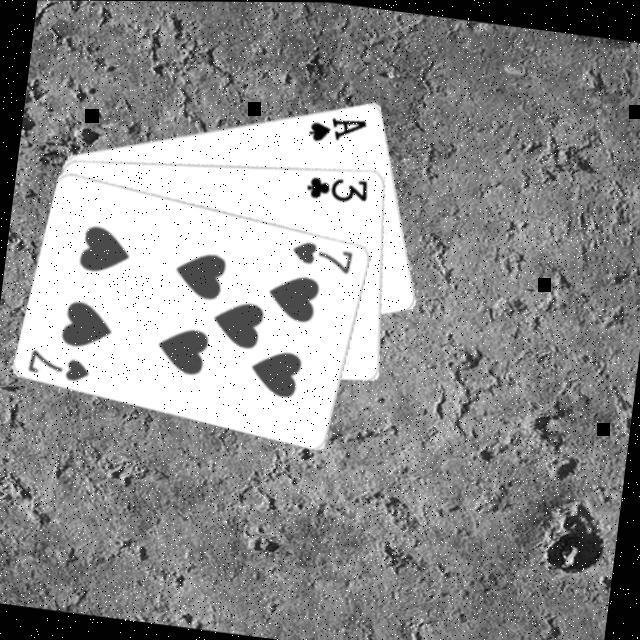3C: (304, 167, 374, 205)
7H: (290, 233, 360, 276), (25, 342, 96, 384)
AS: (306, 107, 373, 148)
